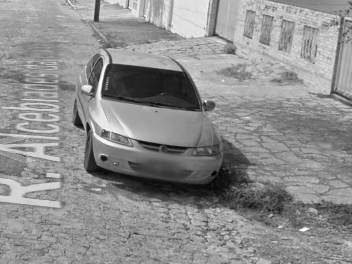car: (69, 39, 226, 193)
